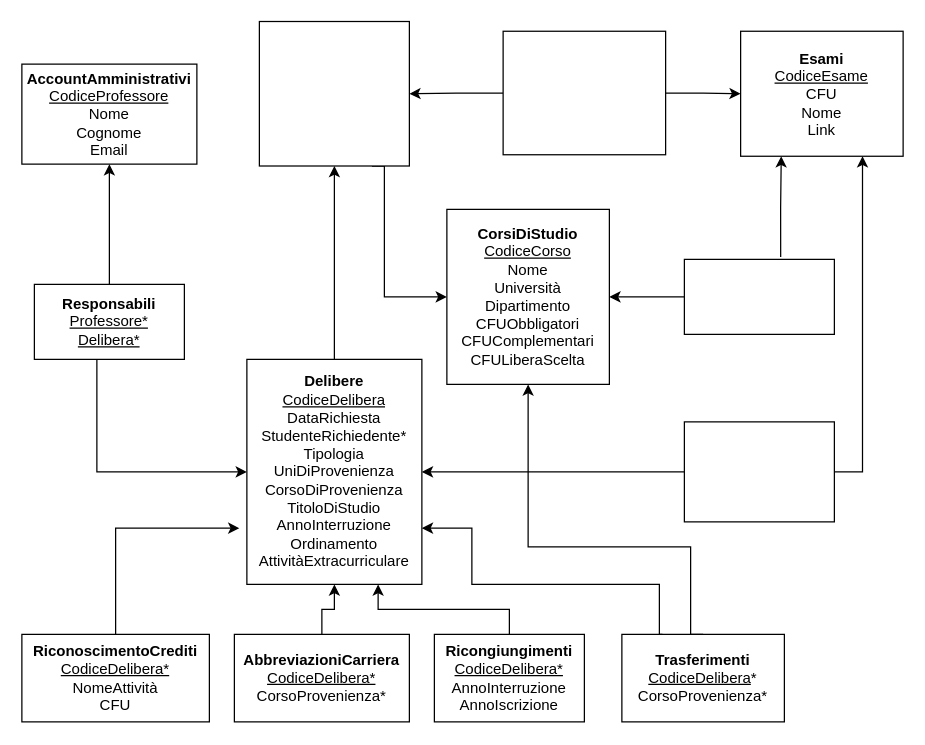
Some shapes in this 925 by 745 pixel diagram are drawn without their labels. The shapes that lost their labels are listed below. From the top down, each one's centre as x and y in pixels, then its label:
point 333,93: AccountTemporanei Matricola Nome Cognome CorsoDiStudio* Email Stato
point 584,92: EsamiSostenuti Studente* Esame* Voto
point 758,296: EsamiECorsi Esame* Corso* Tipologia
point 758,471: EsamiConvalidati Delibera* Esame* Voto
